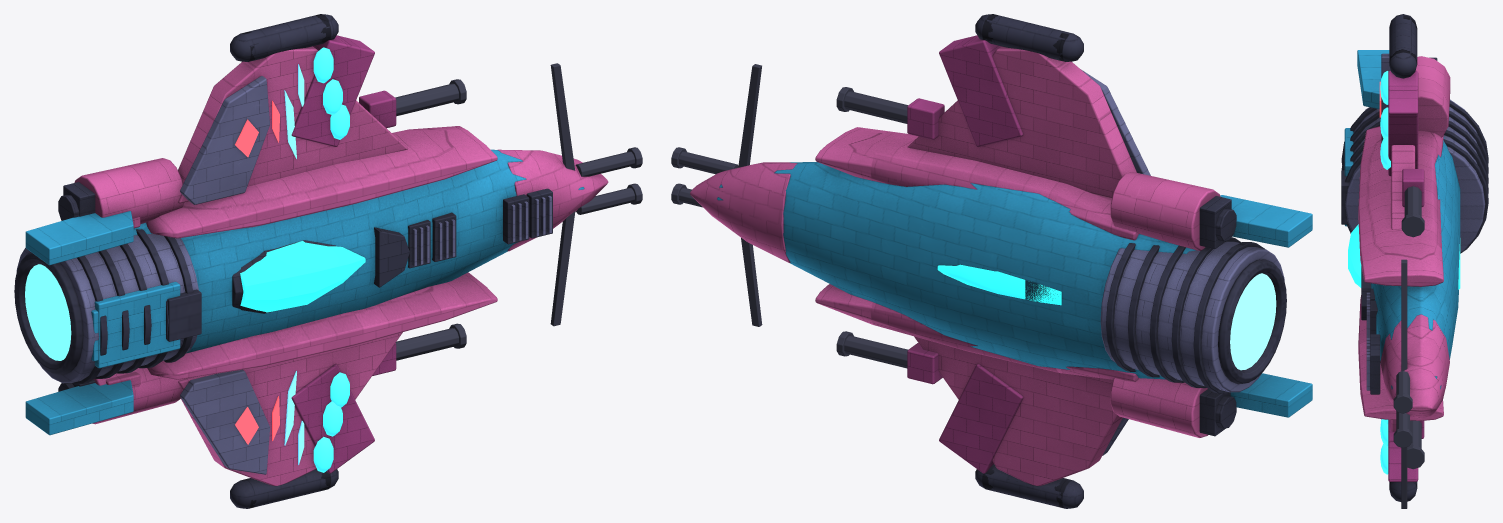
The model's file is player_ship.glb.
3 renders of one model, left to right at view 1: azimuth 30°, elevation 25°; view 2: azimuth 150°, elevation 25°; view 3: azimuth 270°, elevation 25°, orthographic. The views are drawn at different scales.
Parts seen in each view (by area): view 1: Armor, Hull, Wing1, EngineRibs, Wing-1, EngineBarrel, WingFlap1, Canopy, WingFlap-1, Nacelle1, EnginePanels, NoseGuns (+20 smaller); view 2: Hull, Armor, Wing1, Wing-1, EngineBarrel, EngineRibs, Nacelle1, LightHousing1, LightHousing-1, Nacelle-1, NoseGuns, EngineGlow (+12 smaller); view 3: Armor, Hull, EngineBarrel, EngineRibs, NoseGuns, LightHousing1, Nacelle1, WingtipCap1, Wing1, TailFin1, Vents, WingCannon1 (+10 smaller).
Part boxes in pixels (<box>): Armor: <box>146,126,608,379</box>; Hull: <box>133,149,584,353</box>; Wing1: <box>178,46,407,203</box>; EngineRibs: <box>14,229,201,384</box>; Wing-1: <box>178,332,402,485</box>; EngineBarrel: <box>16,234,198,383</box>; WingFlap1: <box>180,76,269,204</box>; Canopy: <box>240,241,365,312</box>; WingFlap-1: <box>180,369,269,474</box>; Nacelle1: <box>74,158,184,224</box>; EnginePanels: <box>91,281,180,368</box>; NoseGuns: <box>550,63,642,326</box>; Hull: <box>717,162,1195,379</box>; Armor: <box>690,127,1138,381</box>; Wing1: <box>908,46,1136,197</box>; Wing-1: <box>914,336,1122,485</box>; EngineBarrel: <box>1100,241,1284,392</box>; EngineRibs: <box>1106,237,1286,393</box>; Nacelle1: <box>1110,172,1220,250</box>; LightHousing1: <box>939,35,1023,146</box>; LightHousing-1: <box>939,364,1023,473</box>; Nacelle-1: <box>1110,378,1207,437</box>; NoseGuns: <box>671,64,762,326</box>; EngineGlow: <box>1230,273,1276,370</box>; Armor: <box>1358,126,1449,420</box>; Hull: <box>1371,136,1460,389</box>; EngineBarrel: <box>1345,99,1485,252</box>; EngineRibs: <box>1341,101,1488,253</box>; NoseGuns: <box>1393,259,1412,508</box>; LightHousing1: <box>1388,70,1418,176</box>; Nacelle1: <box>1415,56,1450,137</box>; WingtipCap1: <box>1389,14,1417,78</box>; Wing1: <box>1391,145,1415,229</box>; TailFin1: <box>1357,50,1389,109</box>; Vents: <box>1361,266,1380,394</box>; WingCannon1: <box>1401,186,1424,237</box>.
Size of the model in its own units: 33.57 by 24.8 by 7.38.
32 materials, 26 textured.
